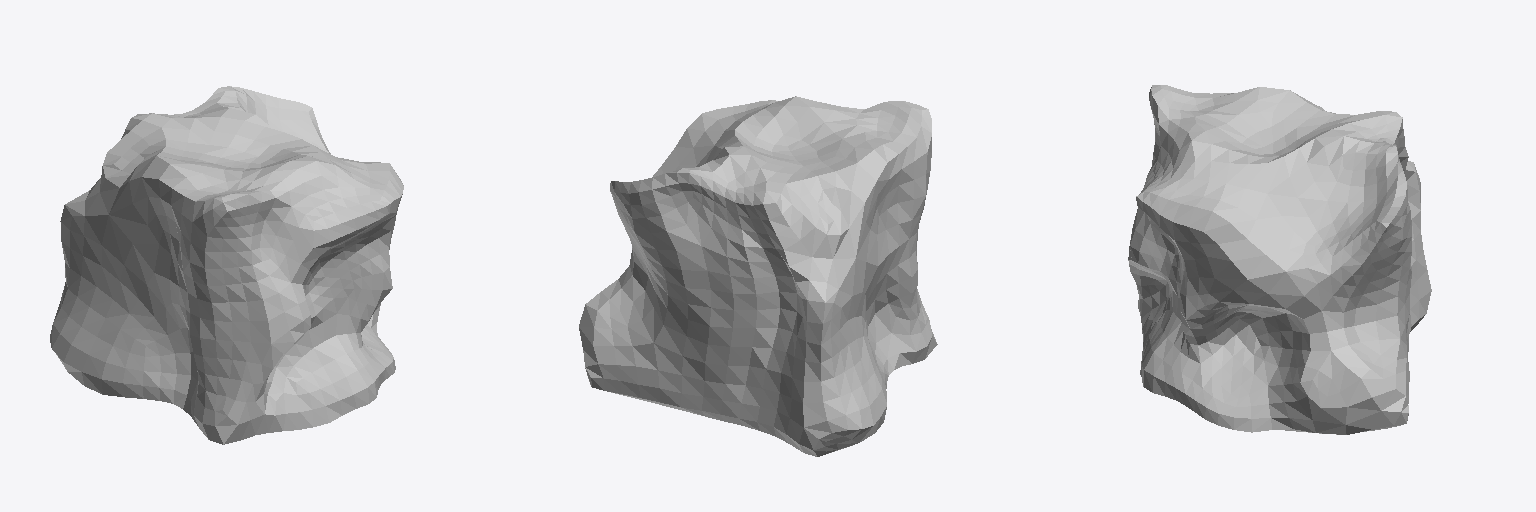
File: StoneLeft.obj
The picture shows the model from 3 angles: view 1: azimuth 30°, elevation 25°; view 2: azimuth 150°, elevation 25°; view 3: azimuth 270°, elevation 25°; orthographic projection.
Visible parts, largest first — view 1: Group12113; view 2: Group12113; view 3: Group12113.
Boxes of the visible parts, x1=… form: Group12113: x1=50, y1=86, x2=403, y2=444; Group12113: x1=579, y1=96, x2=937, y2=456; Group12113: x1=1128, y1=85, x2=1431, y2=434.
Bounding box in the file's own units: 4.01 × 3.23 × 3.53.